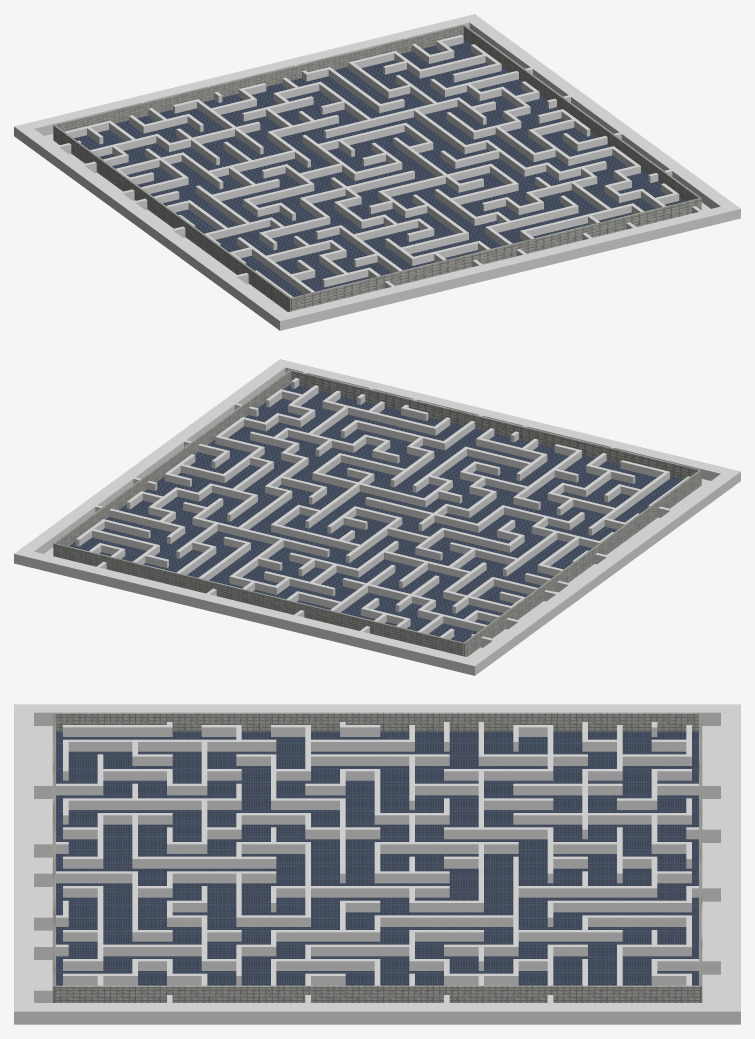
File: spawn.glb
The picture shows the model from 3 angles, top to bottom: view 1: azimuth 30°, elevation 25°; view 2: azimuth 150°, elevation 25°; view 3: azimuth 270°, elevation 25°; orthographic projection. The views are drawn at different scales.
Visible parts, largest first — view 1: Plan, Cube.013, Cube.001, Cube, Cube.003, Cube.004; view 2: Plan, Cube.013, Cube, Cube.001, Cube.003, Cube.004; view 3: Plan, Cube.013, Cube.004, Cube.003, Cube.001, Cube.
Boxes of the visible parts, x1,y1,x2,y2 form: Plan: [14, 14, 740, 330]; Cube.013: [74, 39, 685, 296]; Cube.001: [291, 198, 701, 311]; Cube: [54, 25, 463, 131]; Cube.003: [53, 125, 290, 311]; Cube.004: [463, 25, 701, 209]; Plan: [14, 359, 740, 675]; Cube.013: [69, 384, 683, 642]; Cube: [53, 543, 463, 656]; Cube.001: [291, 370, 700, 479]; Cube.003: [463, 470, 701, 656]; Cube.004: [53, 370, 291, 555]; Plan: [14, 704, 740, 1024]; Cube.013: [56, 731, 698, 985]; Cube.004: [54, 985, 700, 1002]; Cube.003: [54, 712, 700, 731]; Cube.001: [52, 713, 55, 1002]; Cube: [699, 713, 702, 1002].
Bounding box in the file's own units: 450 × 14.52 × 450.
Materials: 3 (2 with a texture image).
